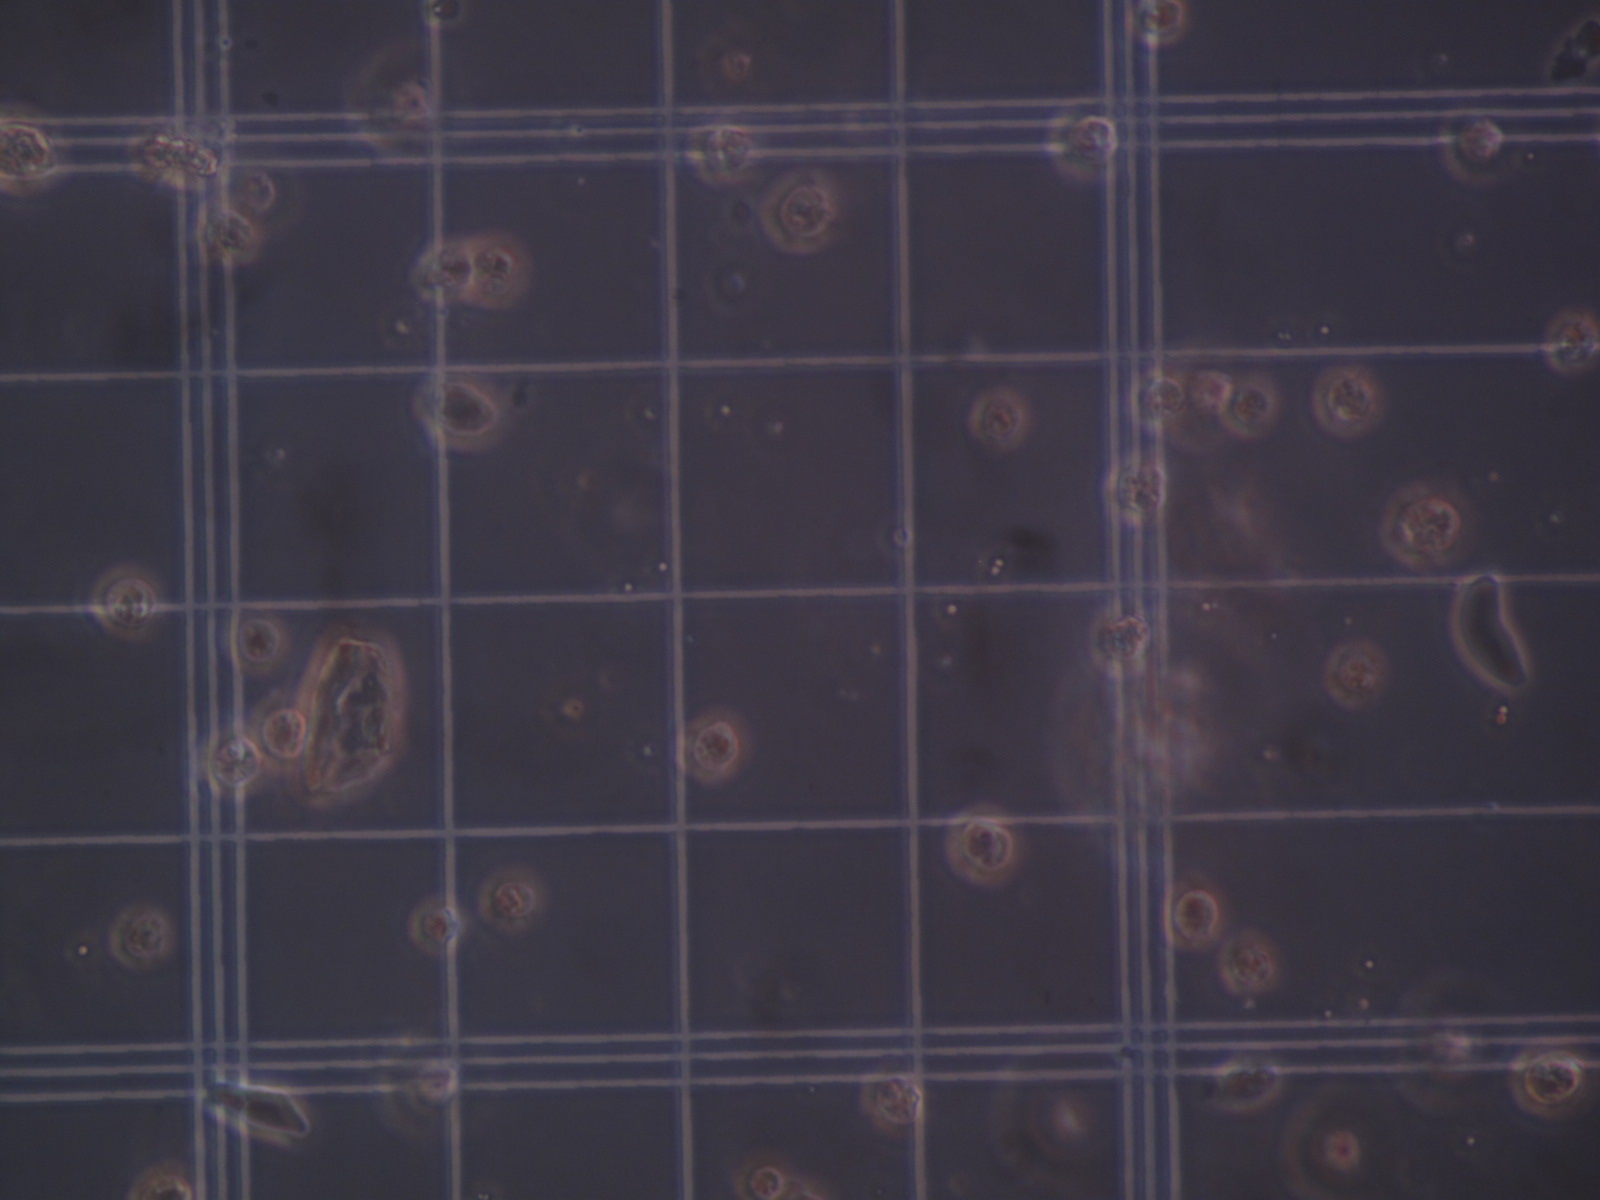hemo: (1386, 982, 1473, 1112), (1277, 1082, 1363, 1200), (336, 50, 430, 158), (375, 1032, 457, 1132), (413, 372, 505, 453), (219, 147, 302, 234), (1380, 484, 1459, 571), (946, 800, 1018, 889), (758, 170, 833, 252), (1, 98, 66, 192), (677, 705, 753, 780), (248, 692, 315, 776), (1047, 105, 1120, 180), (1511, 1047, 1586, 1121), (1440, 106, 1507, 187), (1311, 363, 1383, 437), (94, 563, 164, 640), (467, 231, 529, 313), (855, 1064, 926, 1134), (477, 860, 542, 937), (220, 608, 292, 676), (684, 118, 757, 185), (204, 724, 270, 798), (1160, 874, 1223, 950), (1104, 454, 1167, 528), (1328, 637, 1390, 708), (107, 901, 173, 968), (414, 237, 477, 306), (969, 384, 1032, 451), (1220, 926, 1280, 995), (1124, 371, 1188, 434), (197, 203, 261, 266), (1089, 608, 1148, 672), (404, 894, 464, 955), (1545, 308, 1596, 376), (1216, 1058, 1280, 1111), (1226, 376, 1279, 437), (736, 1151, 787, 1200), (1130, 1, 1186, 45), (1189, 366, 1233, 417)
